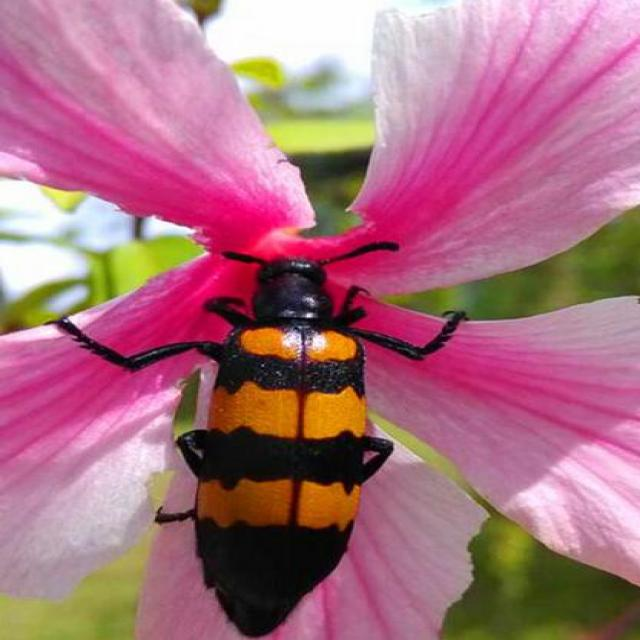BlisterBeetle-Adult-: (79, 231, 470, 638)
